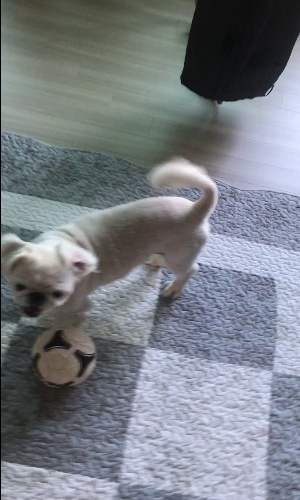ddubi: (1, 156, 220, 328)
